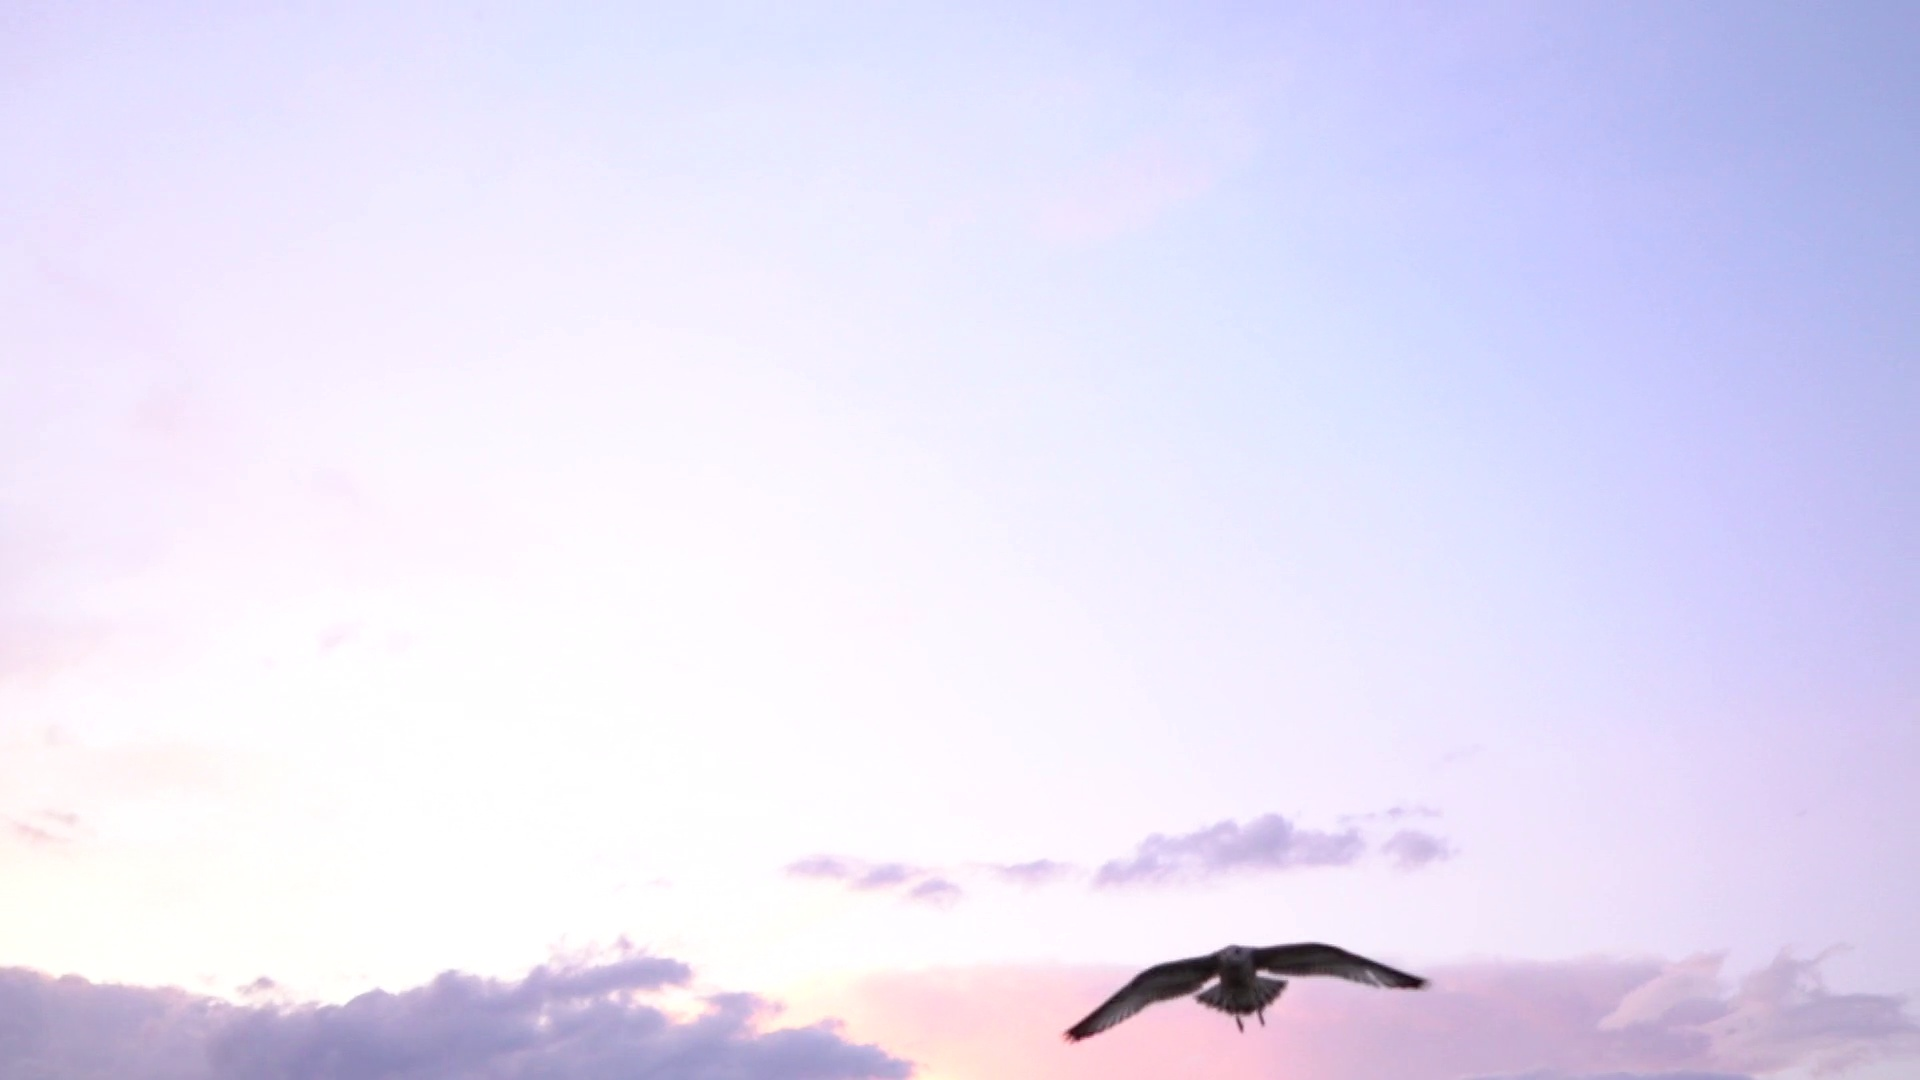bird: (1064, 943, 1425, 1039)
